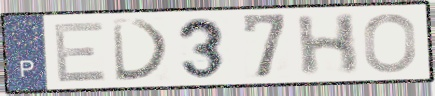3: (177, 15, 233, 83)
7: (240, 12, 290, 81)
D: (109, 18, 174, 84)
E: (51, 19, 110, 84)
H: (295, 12, 360, 79)
O: (362, 12, 419, 75)
